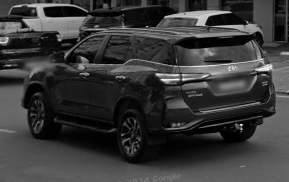car: (20, 27, 276, 163)
